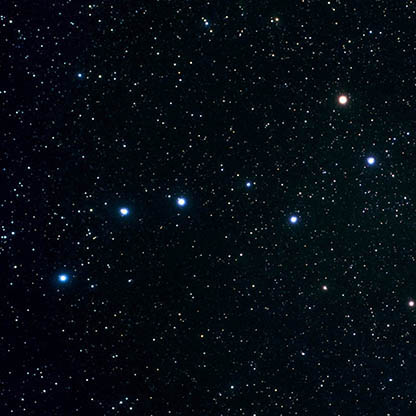Ursa Major: (110, 195, 140, 228), (278, 201, 308, 234), (356, 147, 384, 178), (48, 261, 75, 292), (164, 185, 190, 217), (329, 87, 356, 114), (234, 172, 259, 195)
